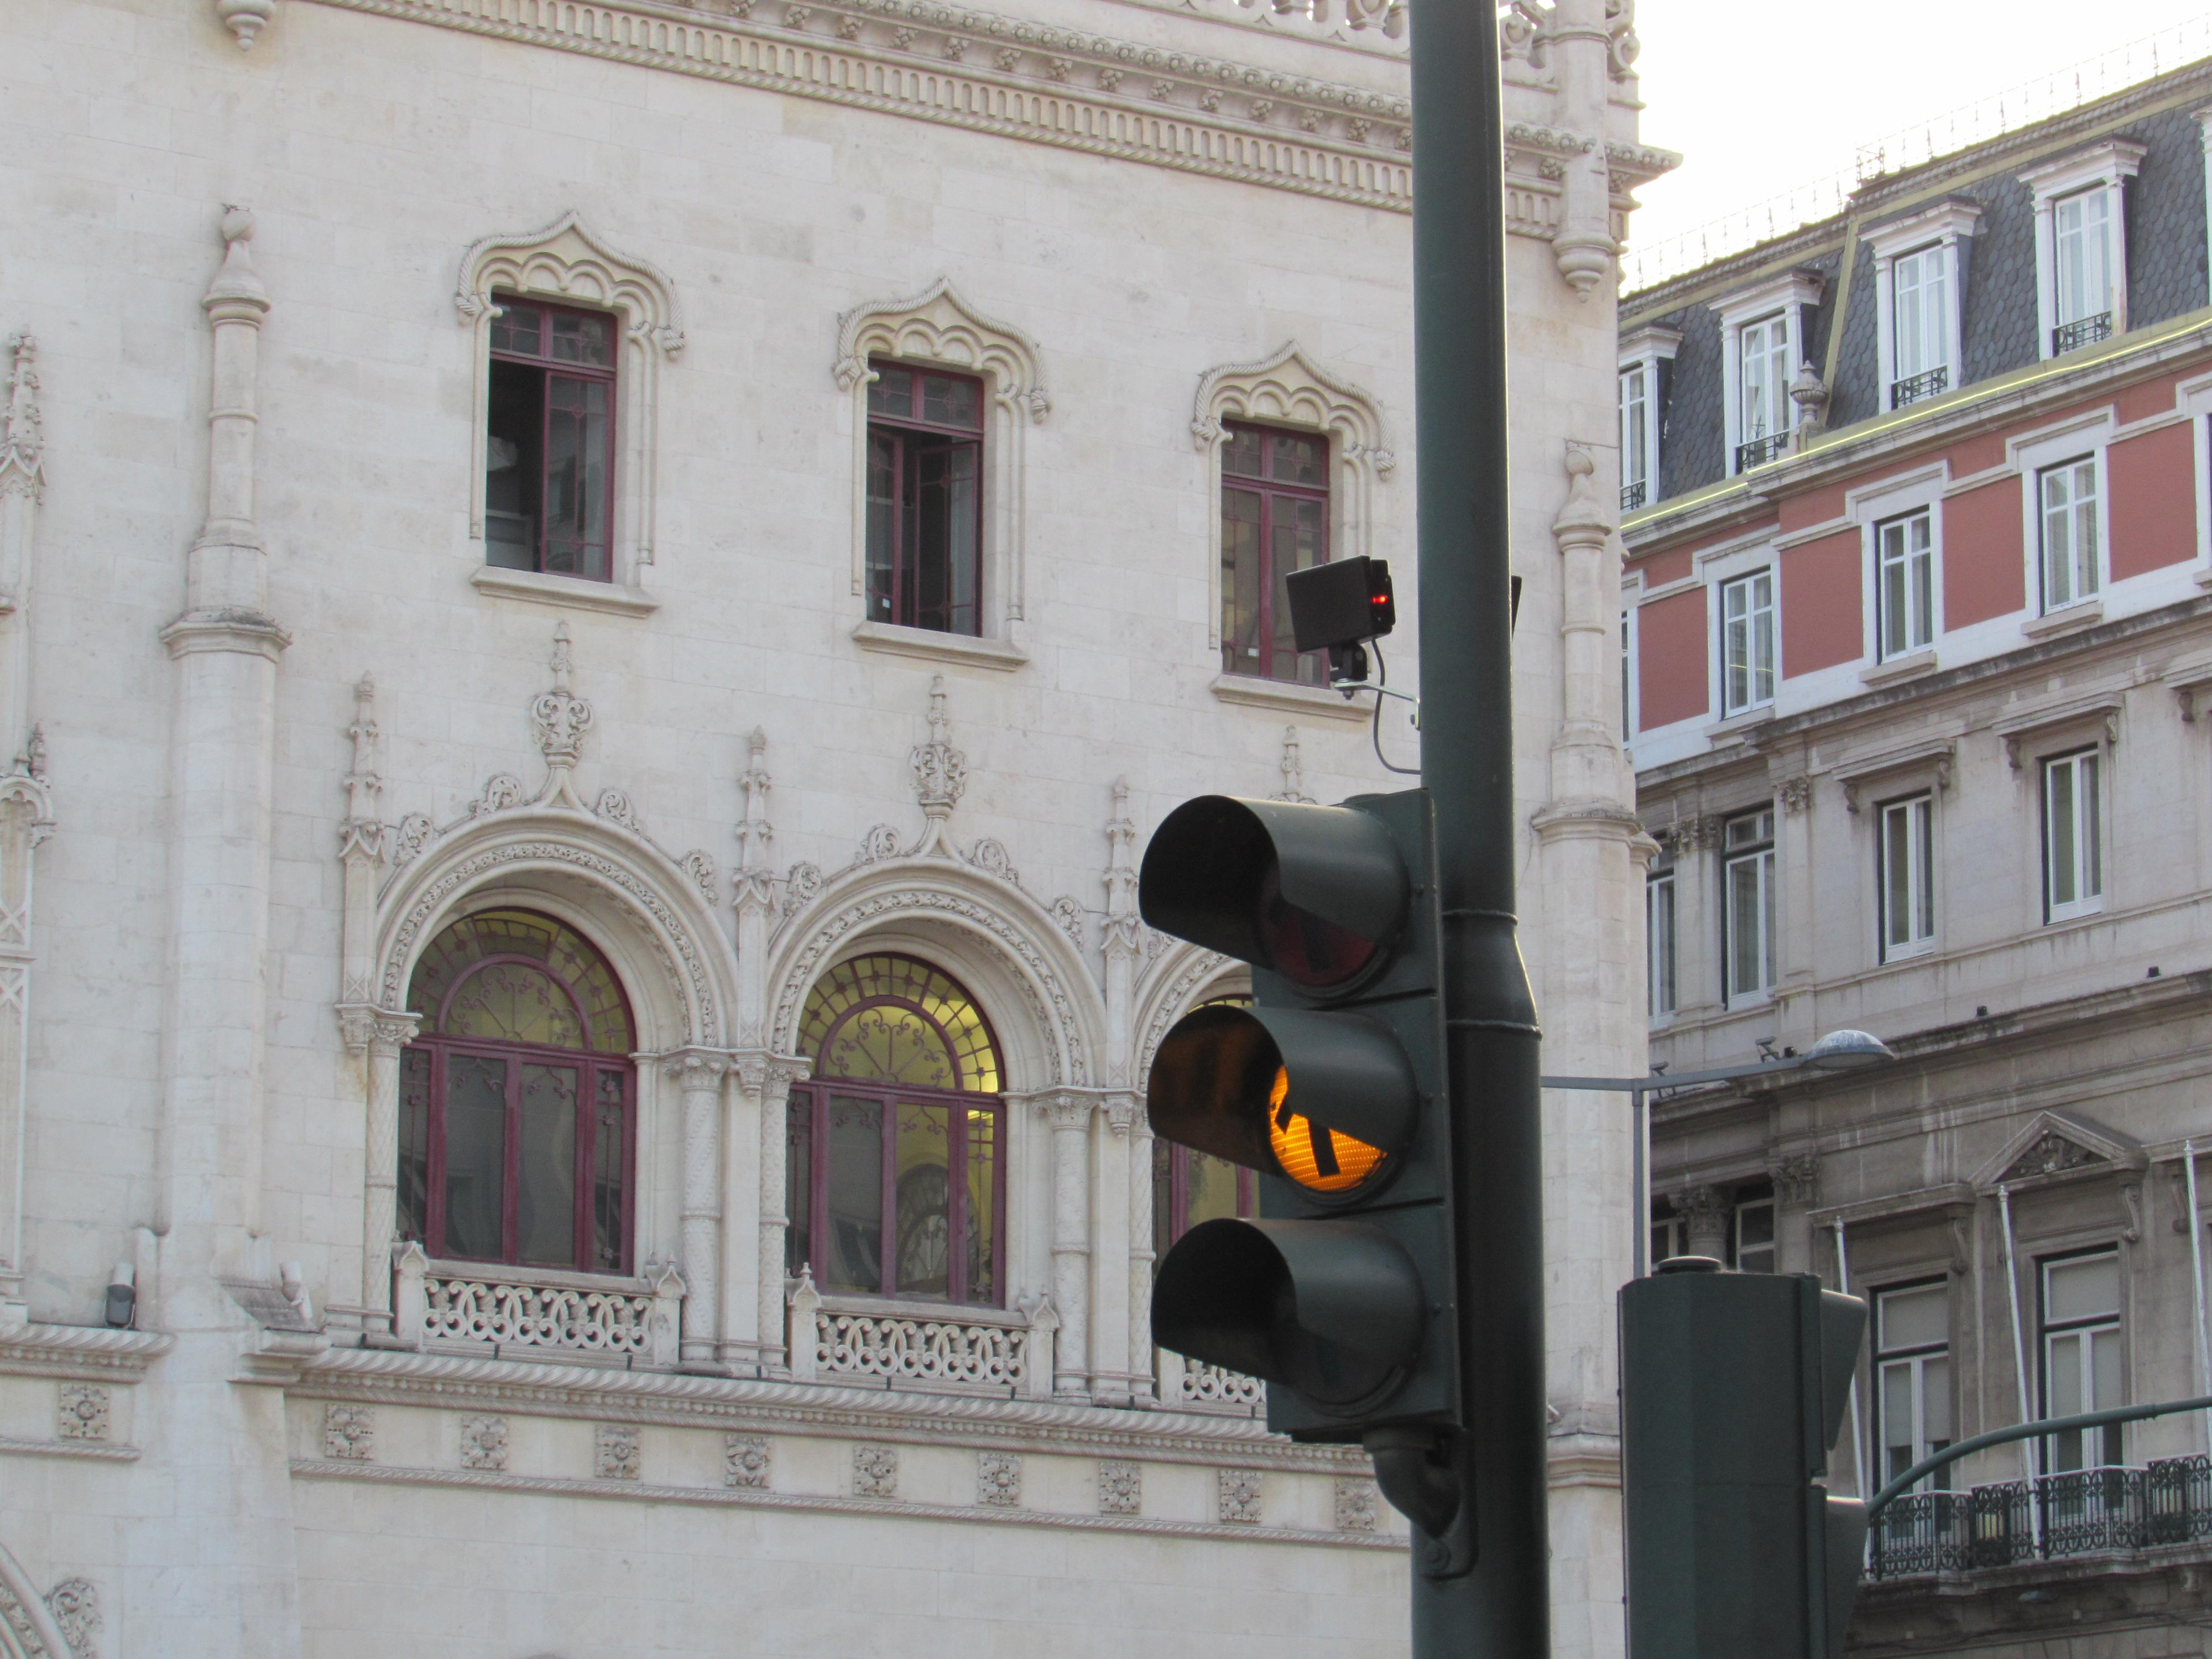yellow_light: (1139, 789, 1460, 1443)
